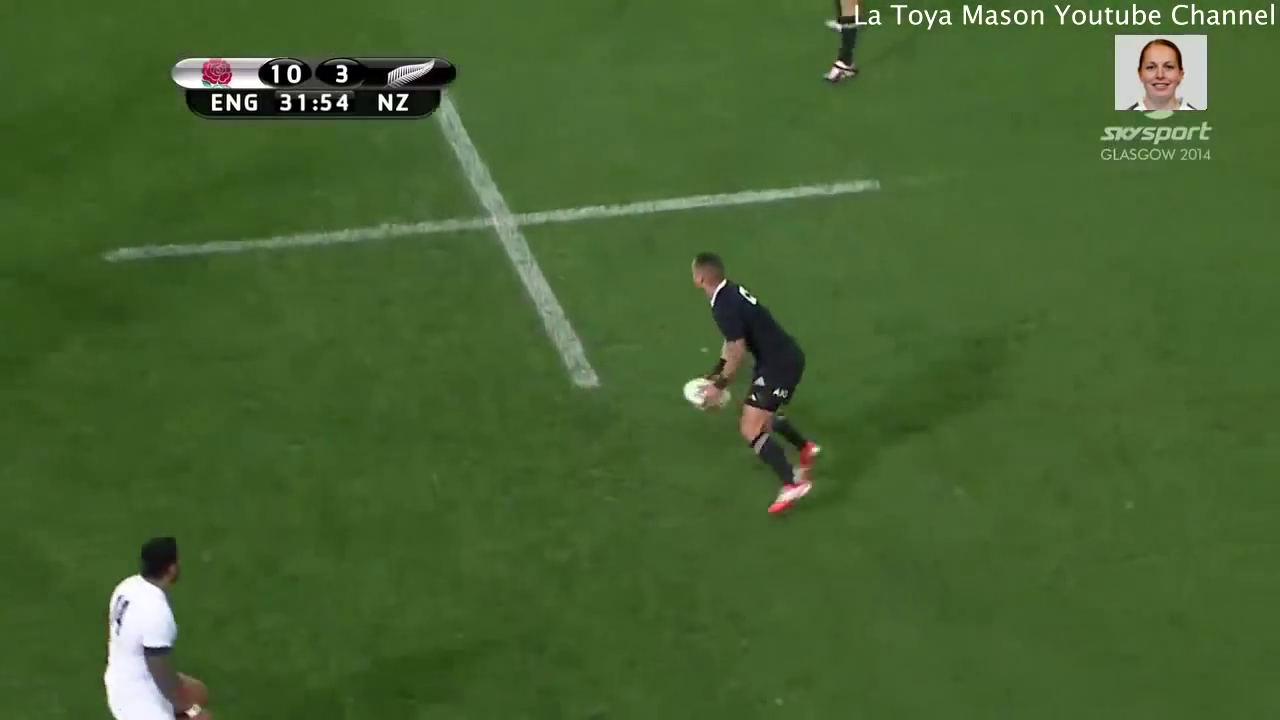10_metre: (81, 72, 901, 402)
ball: (673, 358, 735, 418)
player: (669, 248, 835, 528), (98, 524, 220, 720)
